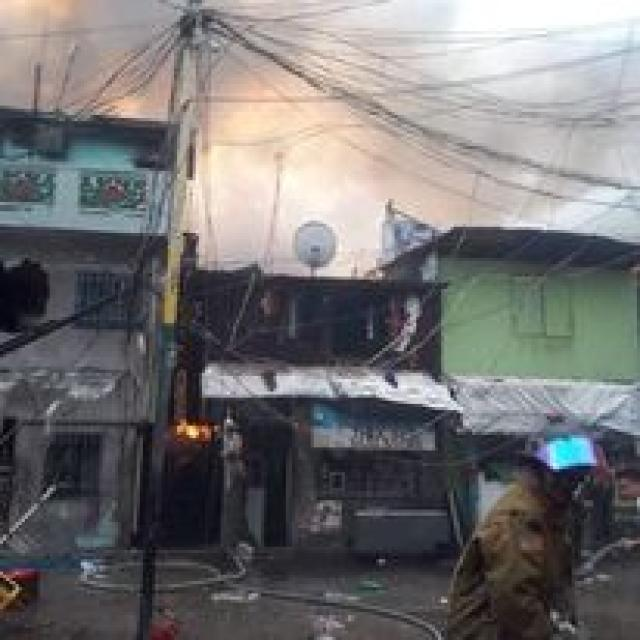Smoke: (0, 0, 640, 151), (198, 142, 374, 268)
